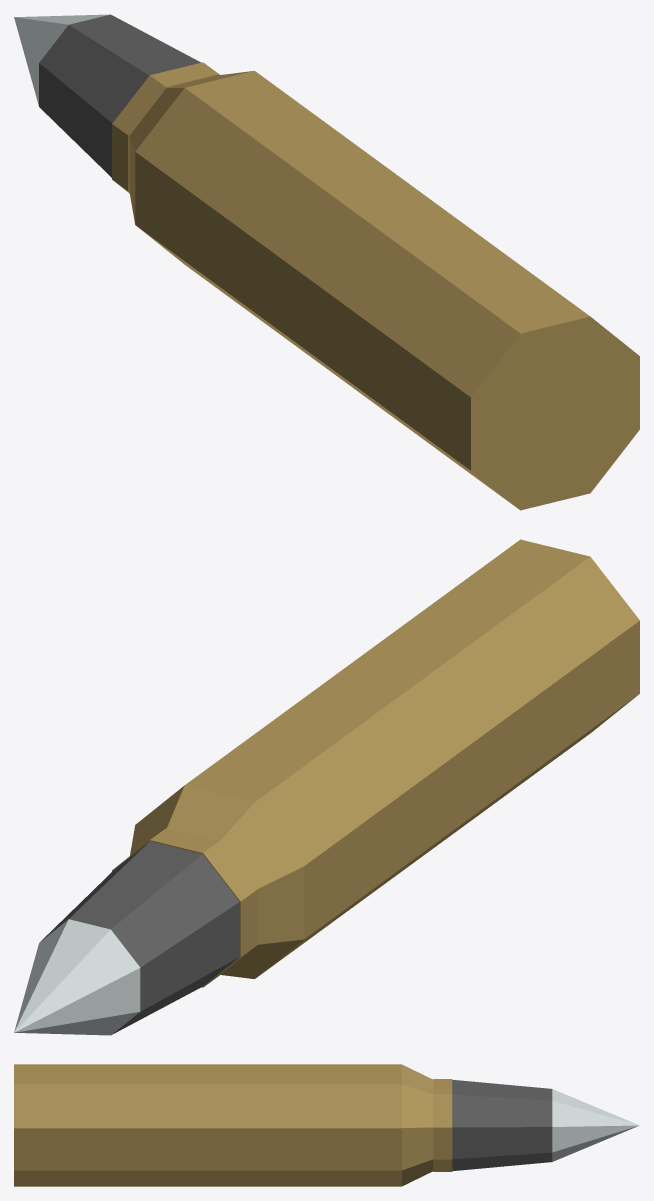
The model's file is ce_ammo_light_sabot_a.obj.
The picture shows the model from 3 angles, top to bottom: view 1: azimuth 30°, elevation 25°; view 2: azimuth 150°, elevation 25°; view 3: azimuth 270°, elevation 25°; orthographic projection. The views are drawn at different scales.
Parts seen in each view (by area): view 1: ce_ammo_light_sabot_a_0, ce_ammo_light_sabot_a_3, ce_ammo_light_sabot_a_2, ce_ammo_light_sabot_a_4, ce_ammo_light_sabot_a_1; view 2: ce_ammo_light_sabot_a_0, ce_ammo_light_sabot_a_3, ce_ammo_light_sabot_a_1, ce_ammo_light_sabot_a_4, ce_ammo_light_sabot_a_2; view 3: ce_ammo_light_sabot_a_0, ce_ammo_light_sabot_a_3, ce_ammo_light_sabot_a_1, ce_ammo_light_sabot_a_4, ce_ammo_light_sabot_a_2.
Boxes of the visible parts, bbox=[...] form: ce_ammo_light_sabot_a_0: bbox=[135, 71, 639, 510]; ce_ammo_light_sabot_a_3: bbox=[39, 14, 200, 177]; ce_ammo_light_sabot_a_2: bbox=[112, 62, 219, 193]; ce_ammo_light_sabot_a_4: bbox=[14, 14, 108, 105]; ce_ammo_light_sabot_a_1: bbox=[129, 71, 252, 224]; ce_ammo_light_sabot_a_0: bbox=[185, 539, 639, 976]; ce_ammo_light_sabot_a_3: bbox=[40, 841, 239, 1034]; ce_ammo_light_sabot_a_1: bbox=[130, 785, 304, 978]; ce_ammo_light_sabot_a_4: bbox=[14, 919, 140, 1035]; ce_ammo_light_sabot_a_2: bbox=[112, 828, 256, 987]; ce_ammo_light_sabot_a_0: bbox=[14, 1064, 401, 1186]; ce_ammo_light_sabot_a_3: bbox=[452, 1079, 552, 1171]; ce_ammo_light_sabot_a_1: bbox=[402, 1064, 433, 1186]; ce_ammo_light_sabot_a_4: bbox=[552, 1089, 639, 1161]; ce_ammo_light_sabot_a_2: bbox=[433, 1079, 452, 1171].
Size of the model in its own units: 0.1478 by 0.1478 by 0.82.
